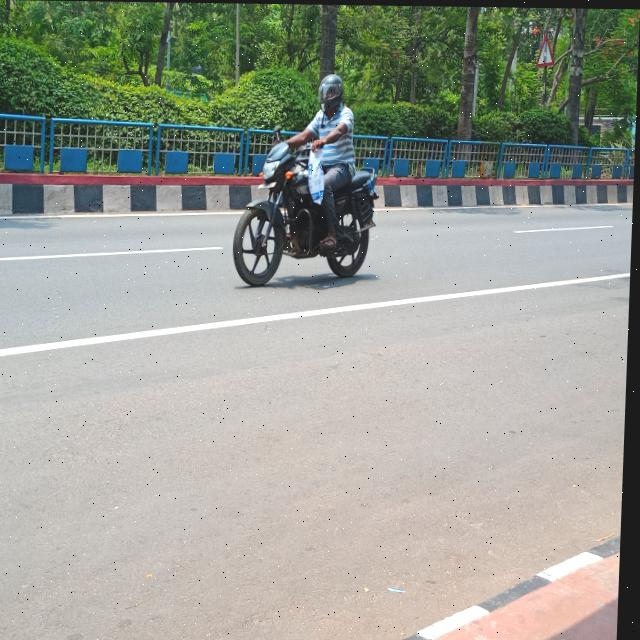bike: (223, 135, 390, 292)
